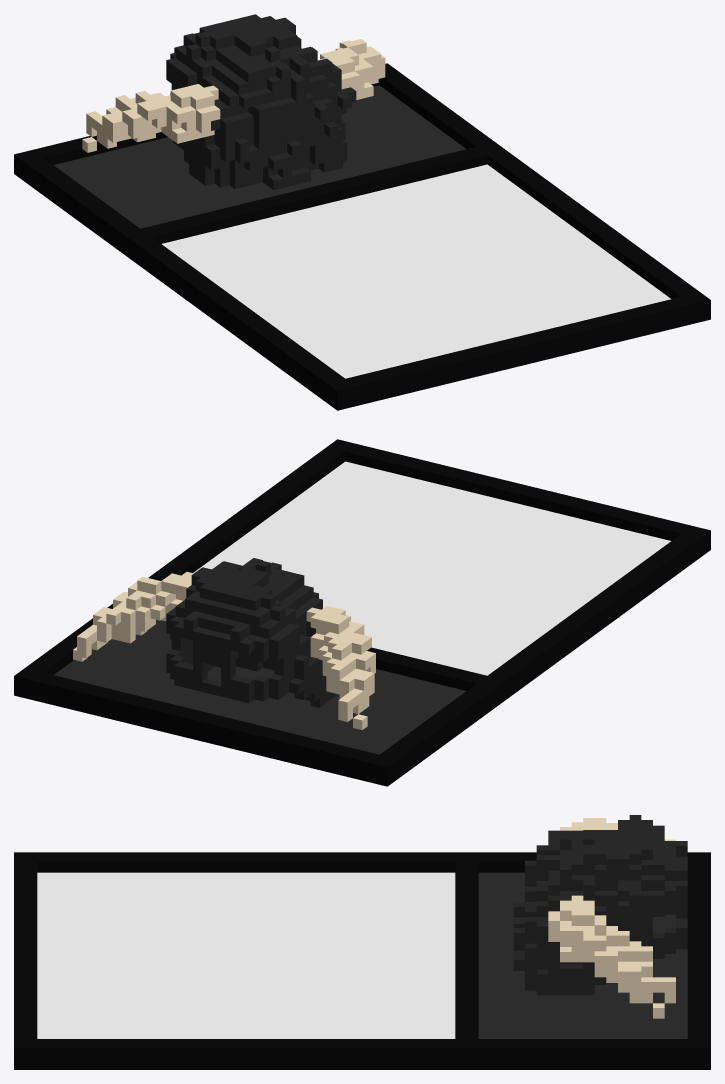
The model's file is tile13.obj.
3 renders of one model, top to bottom at view 1: azimuth 30°, elevation 25°; view 2: azimuth 150°, elevation 25°; view 3: azimuth 270°, elevation 25°, orthographic. The views are drawn at different scales.
Size of the model in its own units: 4 by 1.3 by 6.
Materials: 1 (1 with a texture image).
